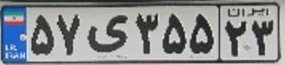character: (85, 10, 131, 55), (188, 8, 217, 58), (131, 9, 160, 56), (55, 8, 82, 58), (28, 10, 55, 58), (161, 9, 188, 56), (224, 17, 249, 58), (251, 16, 276, 57)
